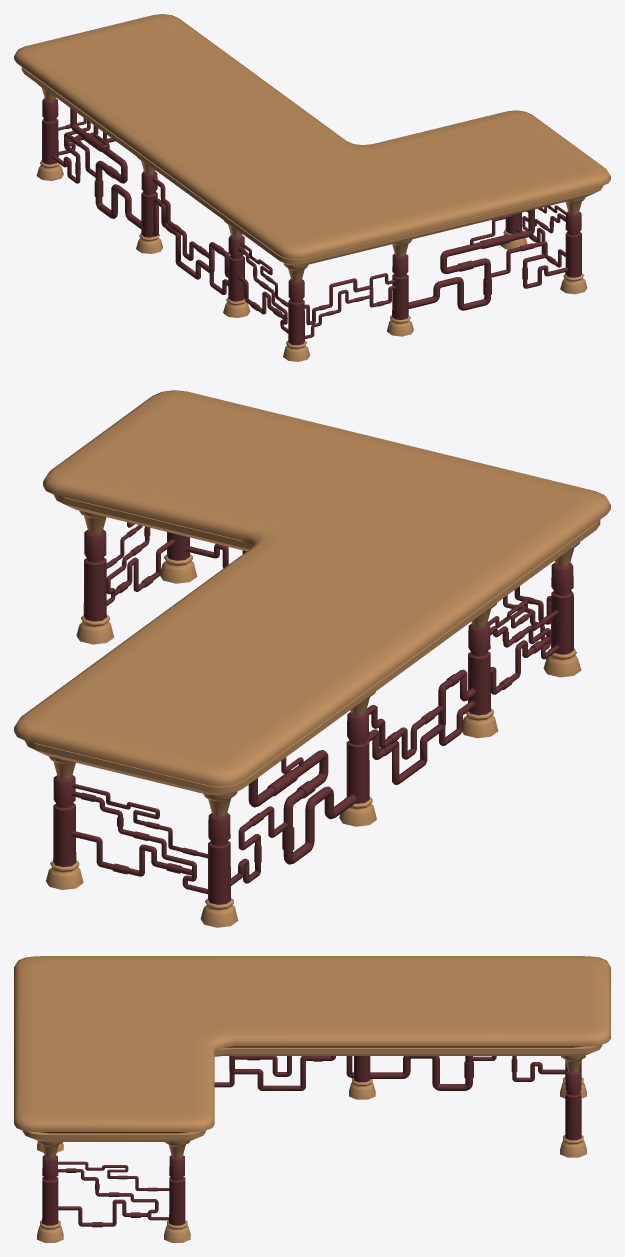
Rendered from Masa.fbx.
The picture shows the model from 3 angles, top to bottom: view 1: azimuth 30°, elevation 25°; view 2: azimuth 150°, elevation 25°; view 3: azimuth 270°, elevation 25°; orthographic projection. The views are drawn at different scales.
Parts seen in each view (by area): view 1: WorkBench; view 2: WorkBench; view 3: WorkBench.
Boxes of the visible parts, x1,y1,x2,y2 form: WorkBench: (14, 14, 610, 361); WorkBench: (14, 390, 610, 927); WorkBench: (14, 956, 610, 1242).
Size of the model in its own units: 3.48 by 1.22 by 5.16.
